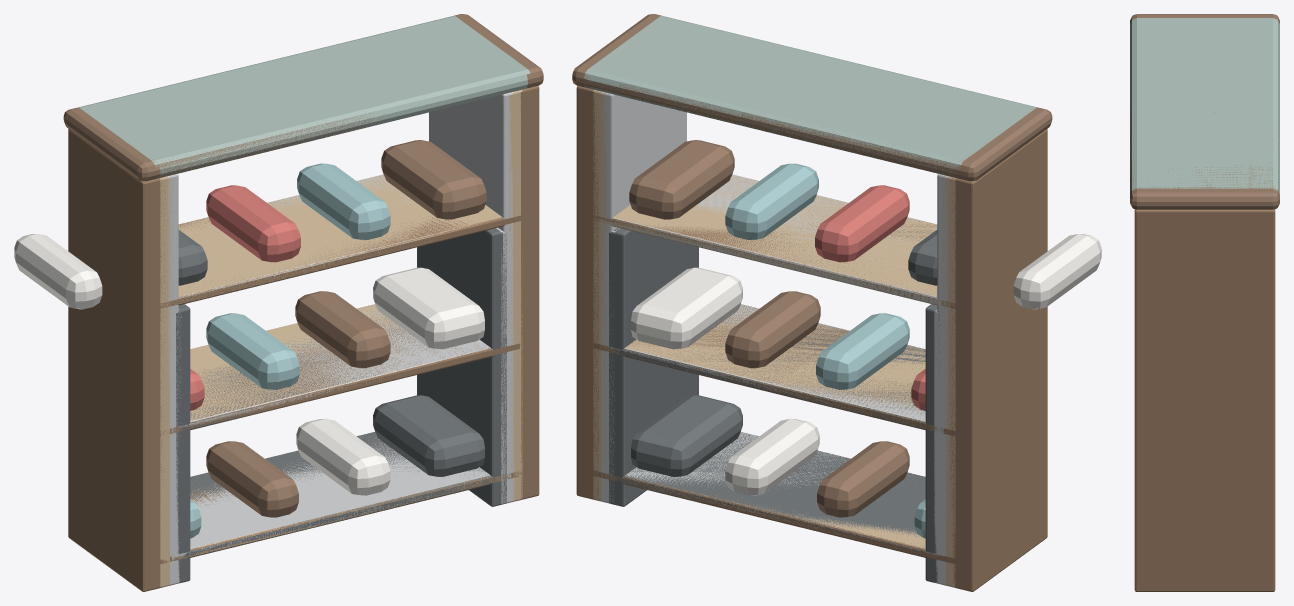
Rendered from Gear16.fbx.
3 views of the same model, side by side, from view 1: azimuth 30°, elevation 25°; view 2: azimuth 150°, elevation 25°; view 3: azimuth 270°, elevation 25° (orthographic). The views are drawn at different scales.
Visible parts, largest first — view 1: Gear16_V10_Walnut, Gear16_V7_Fabric, Gear16_V1_Charcoal, Gear16_V6_Oak, Gear16_V3_BrushedSteel, Gear16_V8_Fabric, Gear16_V4_BrushedSteel, Gear16_V10_Leather, Gear16_V7_Walnut, Gear16_V8_Walnut, Gear16_V2_Charcoal, Gear16_V5_Oak (+22 smaller); view 2: Gear16_V10_Walnut, Gear16_V7_Fabric, Gear16_V1_Charcoal, Gear16_V4_BrushedSteel, Gear16_V6_Oak, Gear16_V5_Oak, Gear16_V10_Leather, Gear16_V2_Charcoal, Gear16_V7_Walnut, Gear16_V8_Walnut, Gear16_V3_BrushedSteel, Gear16_V10_Paper (+18 smaller); view 3: Gear16_V10_Walnut, Gear16_V7_Fabric, Gear16_V8_Fabric, Gear16_V10_Leather, Gear16_V9_Leather.
Boxes of the visible parts, x1,y1,x2,y2 form: Gear16_V10_Walnut: (68,85,539,591); Gear16_V7_Fabric: (82,17,527,177); Gear16_V1_Charcoal: (178,228,502,582); Gear16_V6_Oak: (160,90,522,587); Gear16_V3_BrushedSteel: (172,227,510,584); Gear16_V8_Fabric: (78,16,530,178); Gear16_V4_BrushedSteel: (167,91,514,584); Gear16_V10_Leather: (63,14,543,517); Gear16_V7_Walnut: (156,89,526,588); Gear16_V8_Walnut: (152,88,530,589); Gear16_V2_Charcoal: (176,233,506,582); Gear16_V5_Oak: (163,91,518,586); Gear16_V10_Walnut: (576,85,1047,591); Gear16_V7_Fabric: (588,17,1033,176); Gear16_V1_Charcoal: (613,228,937,582); Gear16_V4_BrushedSteel: (601,92,948,584); Gear16_V6_Oak: (593,90,955,587); Gear16_V5_Oak: (597,91,952,586); Gear16_V10_Leather: (572,14,1052,517); Gear16_V2_Charcoal: (609,227,939,582); Gear16_V7_Walnut: (589,89,960,588); Gear16_V8_Walnut: (585,88,963,589); Gear16_V3_BrushedSteel: (605,228,943,584); Gear16_V10_Paper: (631,234,1101,491); Gear16_V10_Walnut: (1134,209,1275,591); Gear16_V7_Fabric: (1130,20,1279,192); Gear16_V8_Fabric: (1130,18,1279,194); Gear16_V10_Leather: (1130,14,1279,209); Gear16_V9_Leather: (1130,16,1279,194).
Size of the model in its own units: 107 by 94 by 32.
